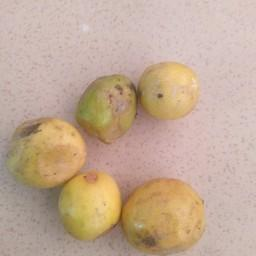Bad_lime: (122, 176, 210, 255), (4, 118, 85, 192), (58, 173, 120, 241), (76, 75, 137, 142), (137, 60, 201, 121)
